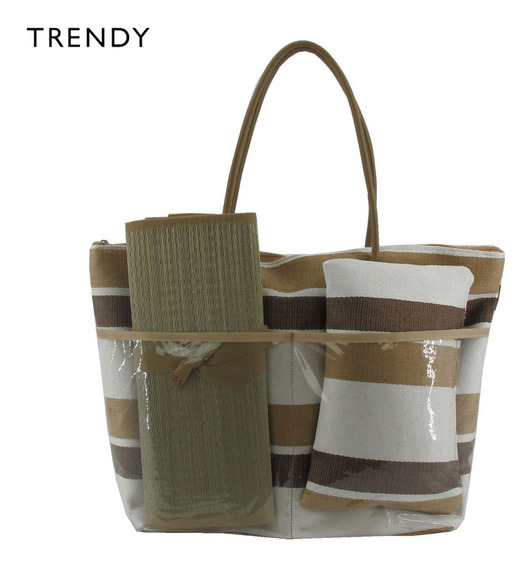cartera: (89, 40, 505, 541)
